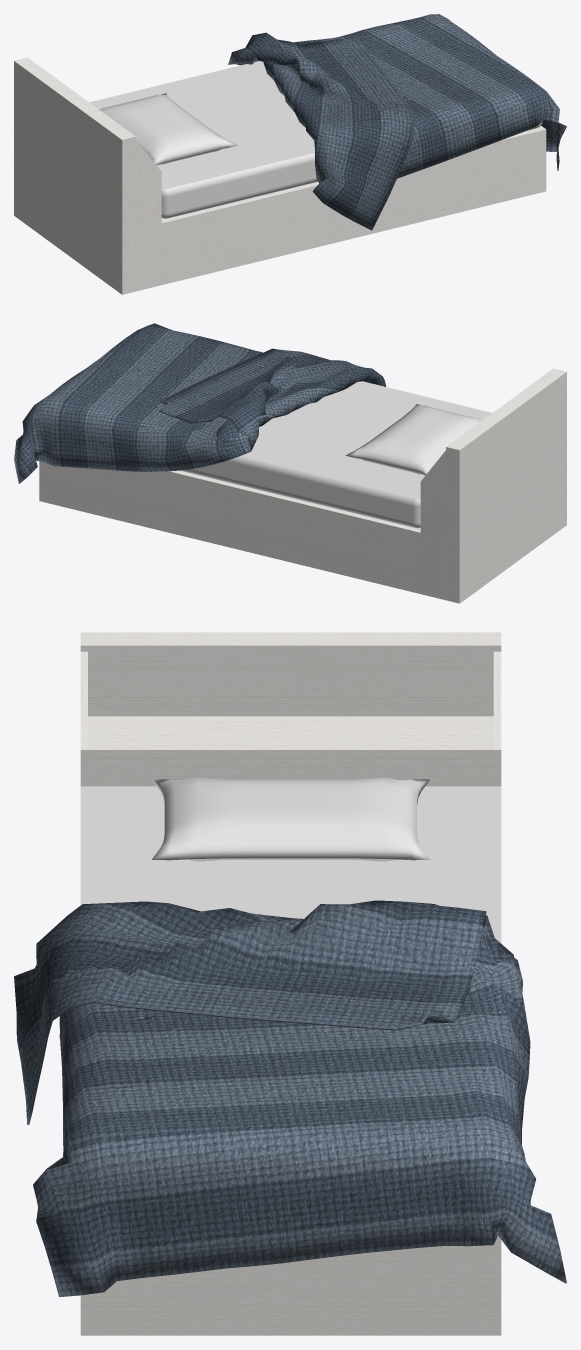
Rendered from bed.glb.
3 renders of one model, top to bottom at view 1: azimuth 30°, elevation 25°; view 2: azimuth 150°, elevation 25°; view 3: azimuth 270°, elevation 25°, orthographic. The views are drawn at different scales.
Visible parts, largest first — view 1: __X_BODY__Frame, Branket_baked_, Matrress, __TOP__Matrress, Pillow; view 2: __X_BODY__Frame, Branket_baked_, Matrress, __TOP__Matrress, Pillow; view 3: Branket_baked_, __X_BODY__Frame, Matrress, __TOP__Matrress, Pillow.
Part boxes in pixels (<box>): __X_BODY__Frame: <box>14,57,546,294</box>; Branket_baked_: <box>228,14,566,230</box>; Matrress: <box>94,64,542,218</box>; __TOP__Matrress: <box>89,61,314,189</box>; Pillow: <box>99,93,237,165</box>; __X_BODY__Frame: <box>39,368,566,603</box>; Branket_baked_: <box>14,323,386,483</box>; Matrress: <box>180,383,487,528</box>; __TOP__Matrress: <box>241,381,491,499</box>; Pillow: <box>345,404,482,475</box>; Branket_baked_: <box>14,900,566,1297</box>; __X_BODY__Frame: <box>80,632,501,1335</box>; Matrress: <box>98,793,483,918</box>; __TOP__Matrress: <box>80,786,501,943</box>; Pillow: <box>151,777,429,861</box>.
Size of the model in its own units: 2.25 by 0.75 by 1.25.
Materials: 4 (2 with a texture image).
